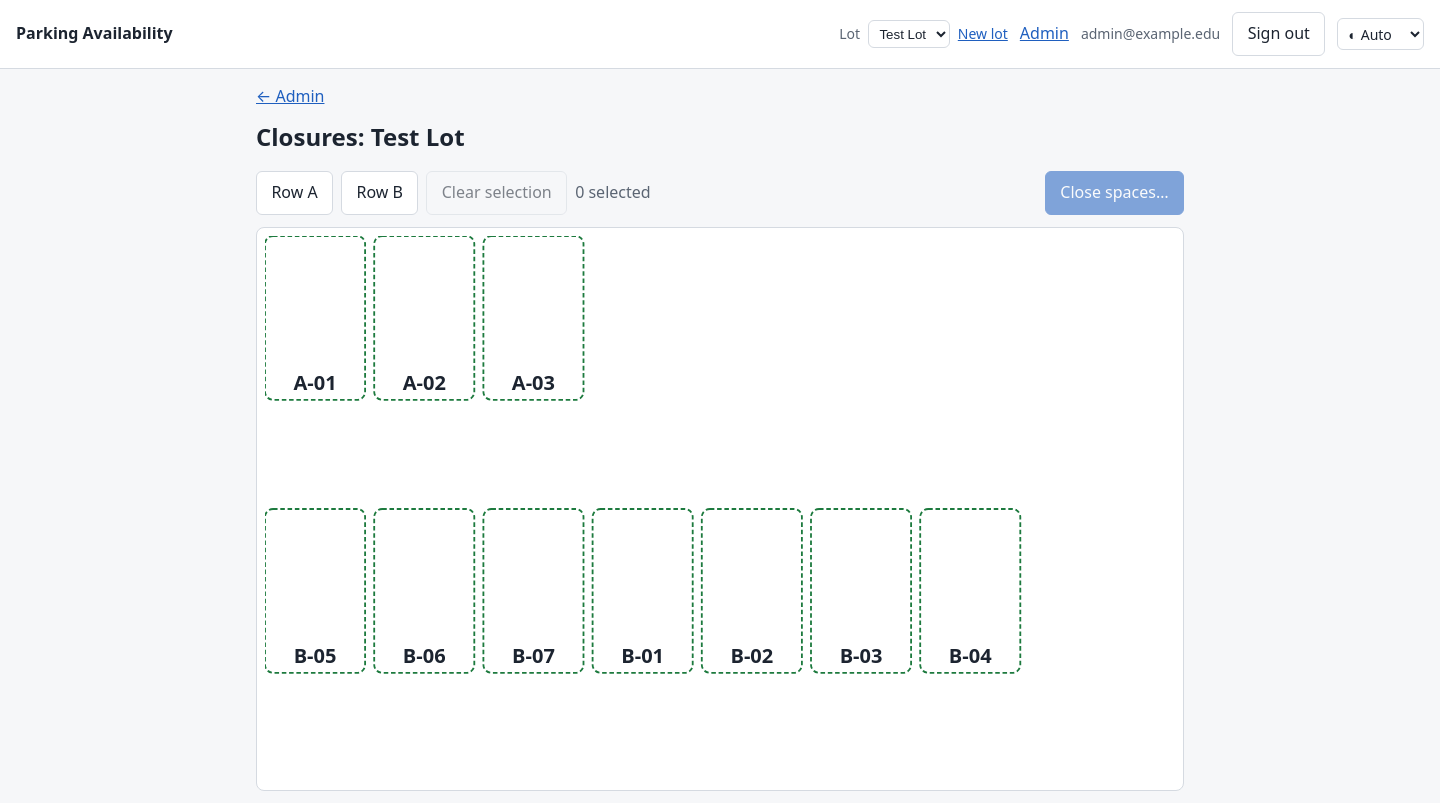
closing spaces › shows a server error inside the dialog
Click the button "Row B": (380, 193) [341,171,418,215]
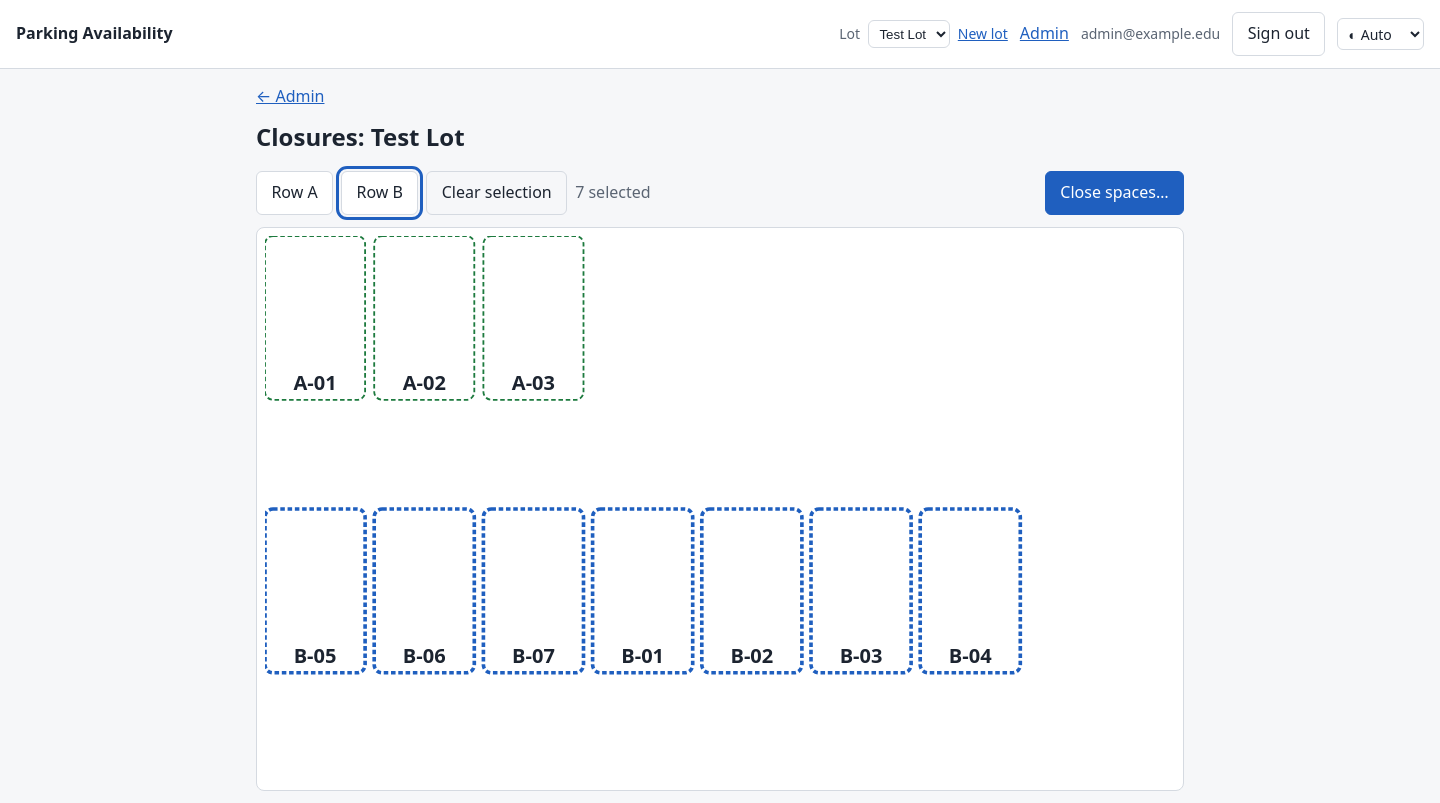
Now the text "7 selected" is shown, box [575,181,651,205]
Click the button "Close spaces…": (1114, 193) [1045,171,1184,215]
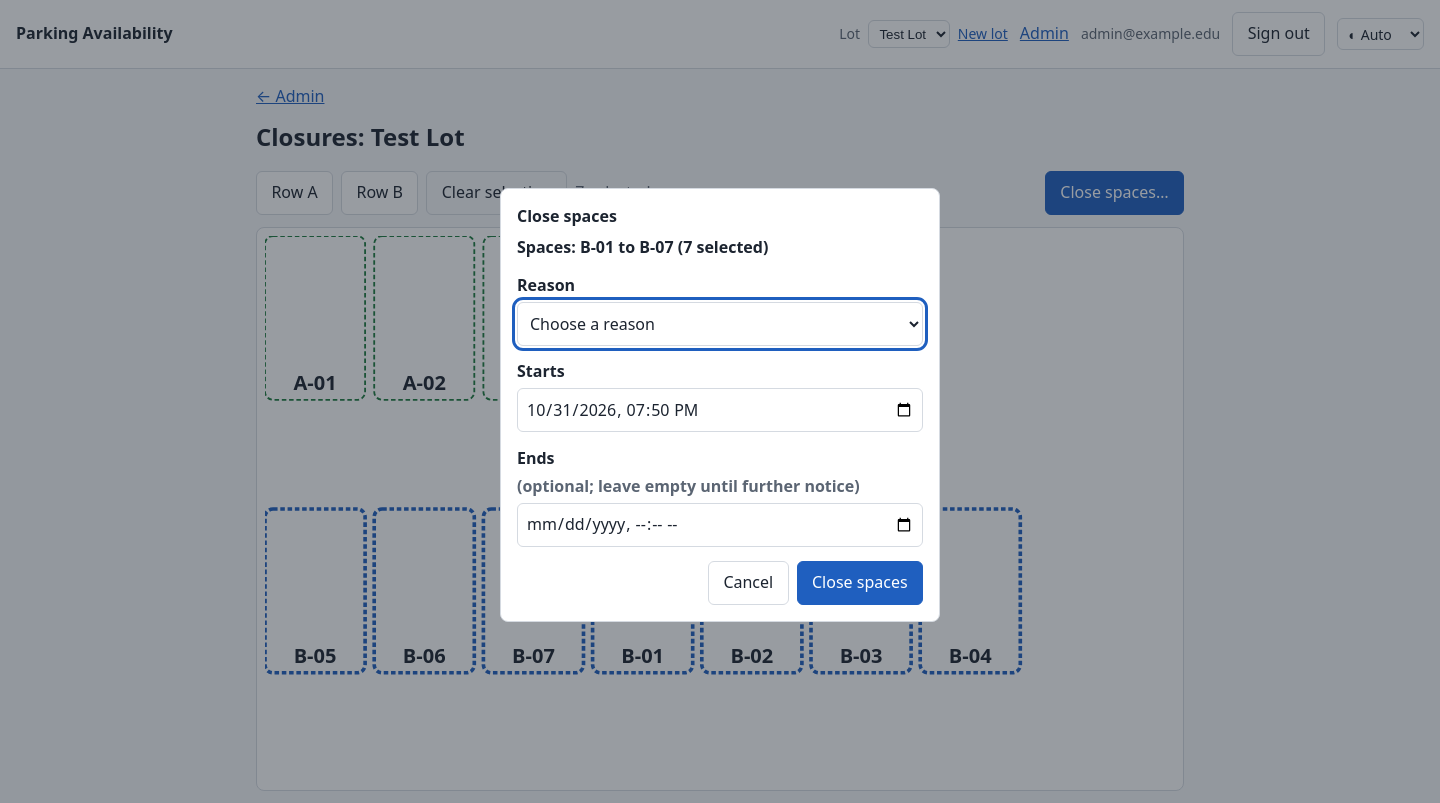
Select "Construction" in the dropdown labelled "Reason": (720, 324) [517,302,923,346]
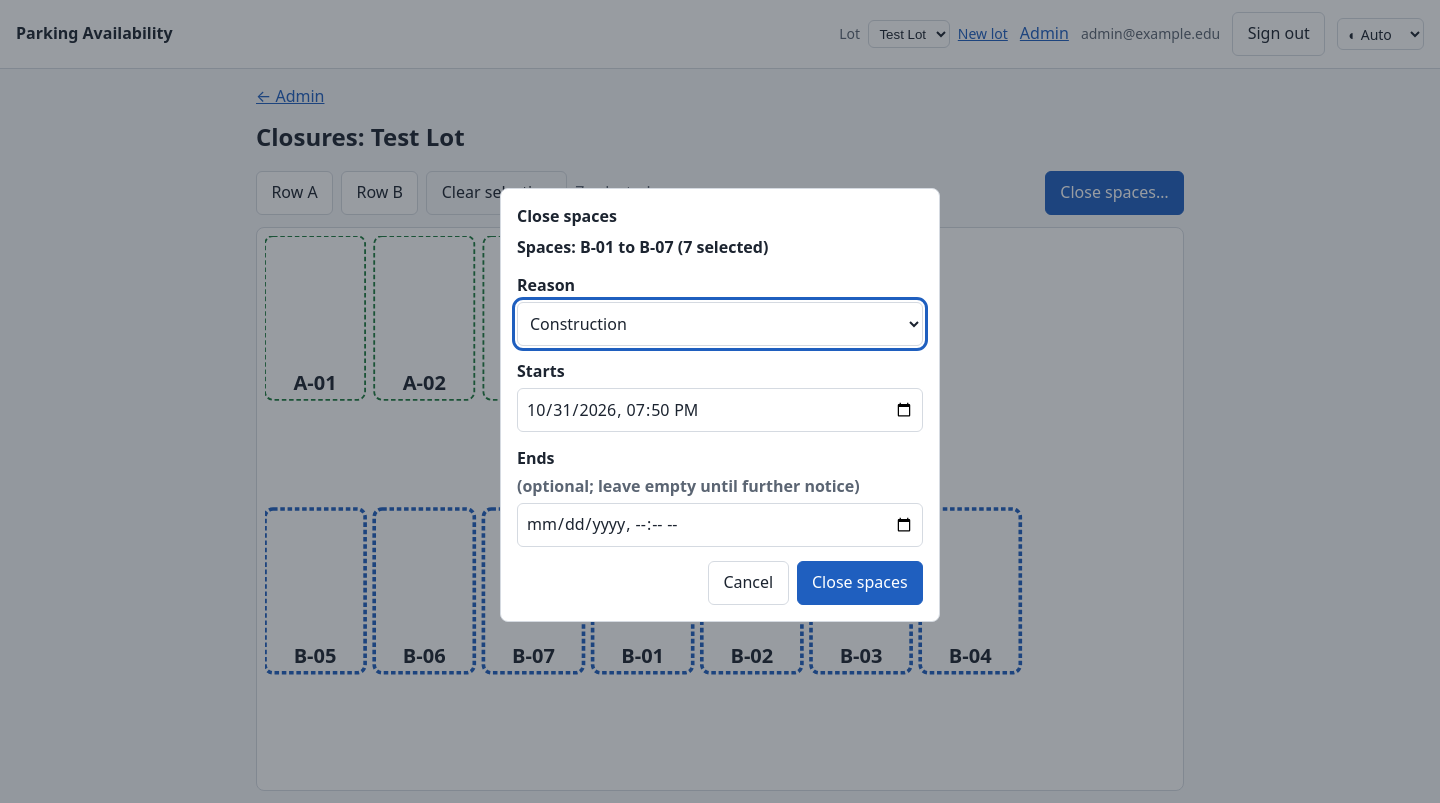
Click the button "Close spaces": (860, 583) [797,561,923,605]
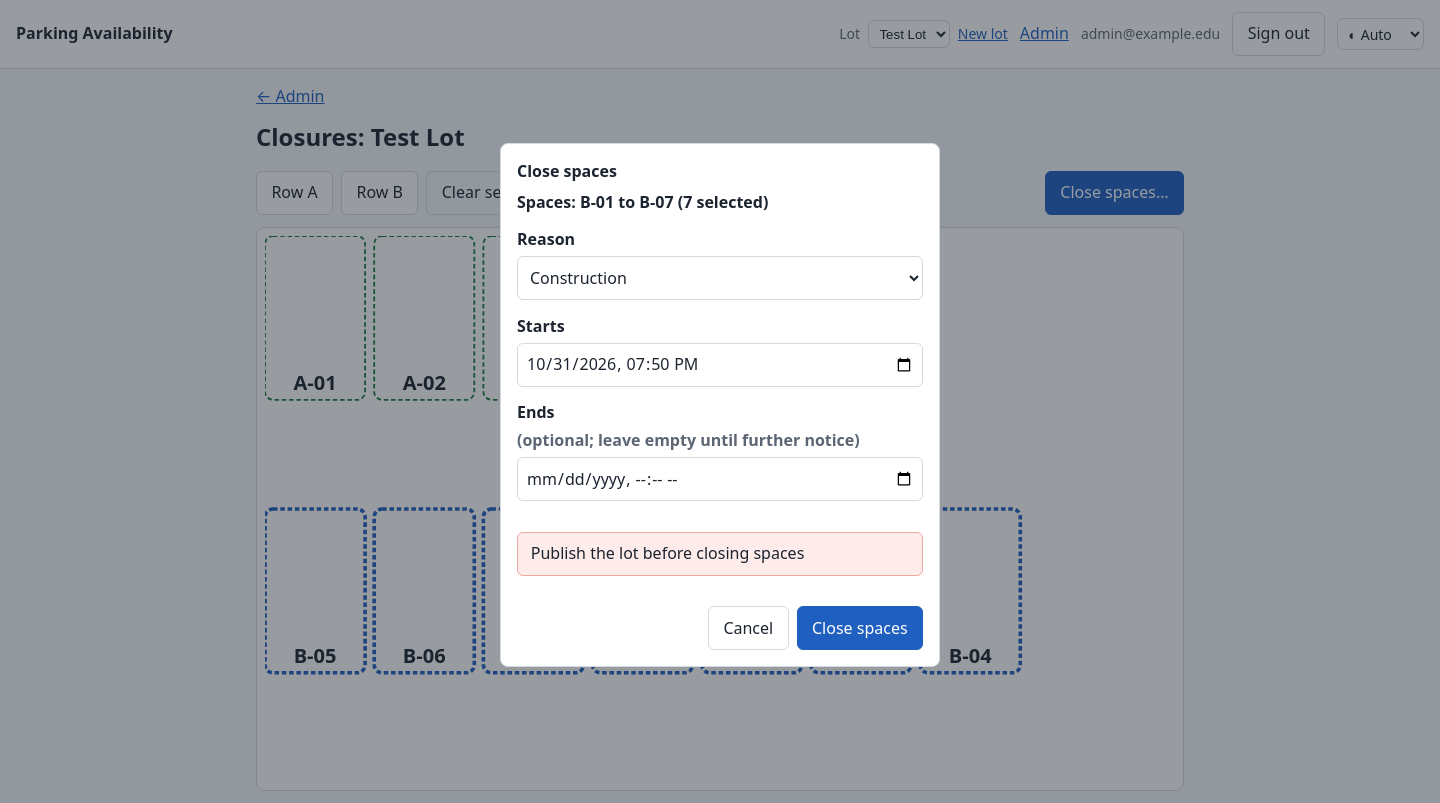
Now the dialog is shown, box [500,143,940,667]
Now the text "Publish the lot before closing spaces" is shown, box [517,532,923,576]
